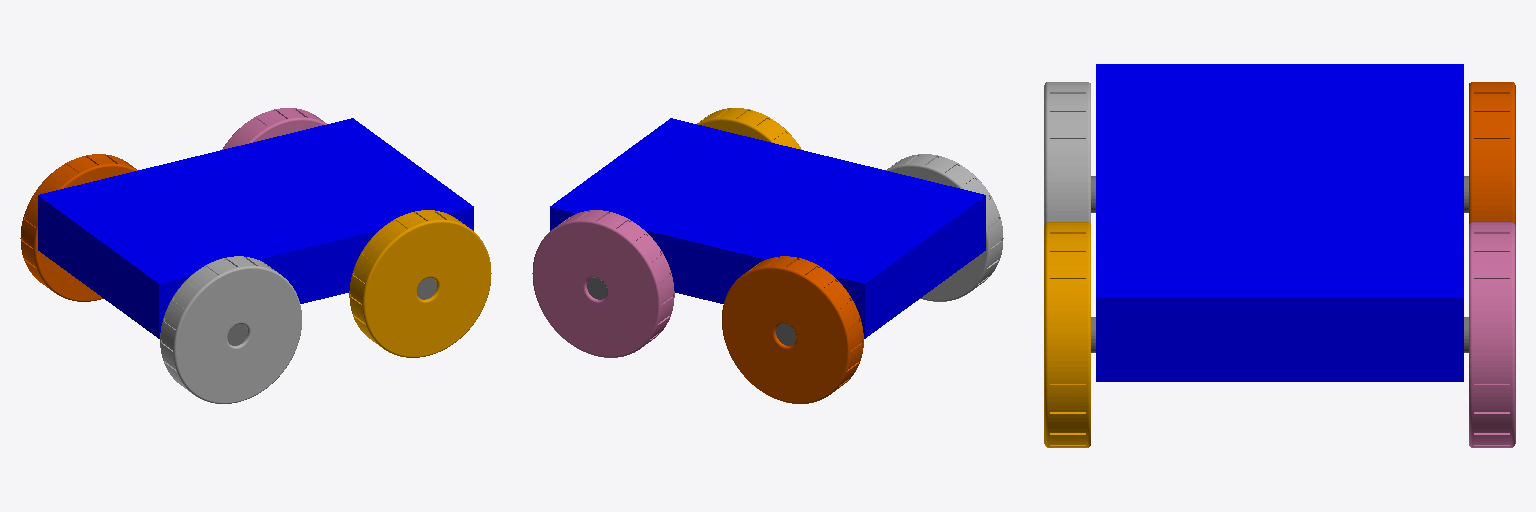
URDF robot description (farad_amr):
<?xml version="1.0"?>
<robot name="farad_amr">

<!-- Base link (chassis) -->
<link name="base_link">
<visual>
<geometry>
<box size="0.6 0.4 0.1"/>
</geometry>
<material name="blue">
<color rgba="0 0 1 1"/>
</material>
</visual>
<collision>
<geometry>
<box size="0.6 0.4 0.1"/>
</geometry>
</collision>
<inertial>
<mass value="10.0"/>
<inertia ixx="0.1" ixy="0.0" ixz="0.0" iyy="0.1" iyz="0.0" izz="0.1"/>
</inertial>
</link>




<!-- Left front shaft -->
<link name="left_front_shaft">
<visual>
<geometry>
<cylinder radius="0.02" length="0.10"/>
</geometry>
<origin xyz="0 0 0" rpy="1.5708 0 0"/>
<material name="gray">
<color rgba="0.5 0.5 0.5 1"/>
</material>
</visual>
<collision>
<geometry>
<cylinder radius="0.02" length="0.10"/>
</geometry>
<origin xyz="0 0 0" rpy="1.5708 0 0"/>
</collision>
<inertial>
<mass value="0.2"/>
<inertia ixx="0.01" ixy="0.0" ixz="0.0" iyy="0.01" iyz="0.0" izz="0.01"/>
</inertial>
</link>

<!-- Left rear shaft -->
<link name="left_rear_shaft">
<visual>
<geometry>
<cylinder radius="0.02" length="0.10"/>
</geometry>
<origin xyz="0 0 0" rpy="1.5708 0 0"/>
<material name="gray">
<color rgba="0.5 0.5 0.5 1"/>
</material>
</visual>
<collision>
<geometry>
<cylinder radius="0.02" length="0.10"/>
</geometry>
<origin xyz="0 0 0" rpy="1.5708 0 0"/>
</collision>
<inertial>
<mass value="0.2"/>
<inertia ixx="0.01" ixy="0.0" ixz="0.0" iyy="0.01" iyz="0.0" izz="0.01"/>
</inertial>
</link>

<!-- Right front shaft -->
<link name="right_front_shaft">
<visual>
<geometry>
<cylinder radius="0.02" length="0.10"/>
</geometry>
<origin xyz="0 0 0" rpy="1.5708 0 0"/>
<material name="gray">
<color rgba="0.5 0.5 0.5 1"/>
</material>
</visual>
<collision>
<geometry>
<cylinder radius="0.02" length="0.10"/>
</geometry>
<origin xyz="0 0 0" rpy="1.5708 0 0"/>
</collision>
<inertial>
<mass value="0.2"/>
<inertia ixx="0.01" ixy="0.0" ixz="0.0" iyy="0.01" iyz="0.0" izz="0.01"/>
</inertial>
</link>

<!-- Right rear shaft -->
<link name="right_rear_shaft">
<visual>
<geometry>
<cylinder radius="0.02" length="0.10"/>
</geometry>
<origin xyz="0 0 0" rpy="1.5708 0 0"/>
<material name="gray">
<color rgba="0.5 0.5 0.5 1"/>
</material>
</visual>
<collision>
<geometry>
<cylinder radius="0.02" length="0.10"/>
</geometry>
<origin xyz="0 0 0" rpy="1.5708 0 0"/>
</collision>
<inertial>
<mass value="0.2"/>
<inertia ixx="0.01" ixy="0.0" ixz="0.0" iyy="0.01" iyz="0.0" izz="0.01"/>
</inertial>
</link>



<!-- ================= TIRES (MESH) ================= -->

<!-- Left front tire (aligned with shaft, at +Y end) -->
<link name="left_front_tire">
	<inertial>
		<origin xyz="0 0 0"/>
		<mass value="1.0"/>
		<inertia ixx="0.02" iyy="0.02" izz="0.02" ixy="0" ixz="0" iyz="0"/>
	</inertial>
	<visual>
		<origin xyz="0 0.03 0" rpy="1.5708 0 0"/>
		<geometry>
			<mesh filename="tire_6.stl" scale="0.001 0.001 0.001"/>
		</geometry>
	</visual>
	<collision>
		<origin xyz="0 0.03 0" rpy="1.5708 0 0"/>
		<geometry>
			<mesh filename="tire_6.stl" scale="0.001 0.001 0.001"/>
		</geometry>
	</collision>
</link>

<!-- Left rear tire (aligned with shaft, at +Y end) -->
<link name="left_rear_tire">
	<inertial>
		<origin xyz="0 0 0"/>
		<mass value="1.0"/>
		<inertia ixx="0.02" iyy="0.02" izz="0.02" ixy="0" ixz="0" iyz="0"/>
	</inertial>
	<visual>
		<origin xyz="0 0.03 0" rpy="1.5708 0 0"/>
		<geometry>
			<mesh filename="tire_6.stl" scale="0.001 0.001 0.001"/>
		</geometry>
	</visual>
	<collision>
		<origin xyz="0 0.03 0" rpy="1.5708 0 0"/>
		<geometry>
			<mesh filename="tire_6.stl" scale="0.001 0.001 0.001"/>
		</geometry>
	</collision>
</link>

<!-- Right front tire (aligned with shaft, at +Y end) -->
<link name="right_front_tire">
	<inertial>
		<origin xyz="0 0 0"/>
		<mass value="1.0"/>
		<inertia ixx="0.02" iyy="0.02" izz="0.02" ixy="0" ixz="0" iyz="0"/>
	</inertial>
	<visual>
		<origin xyz="0 -0.03 0" rpy="1.5708 0 0"/>
		<geometry>
			<mesh filename="tire_6.stl" scale="0.001 0.001 0.001"/>
		</geometry>
	</visual>
	<collision>
		<origin xyz="0 -0.03 0" rpy="1.5708 0 0"/>
		<geometry>
			<mesh filename="tire_6.stl" scale="0.001 0.001 0.001"/>
		</geometry>
	</collision>
</link>

<!-- Right rear tire (aligned with shaft, at +Y end) -->
<link name="right_rear_tire">
	<inertial>
		<origin xyz="0 0 0"/>
		<mass value="1.0"/>
		<inertia ixx="0.02" iyy="0.02" izz="0.02" ixy="0" ixz="0" iyz="0"/>
	</inertial>
	<visual>
		<origin xyz="0 -0.03 0" rpy="1.5708 0 0"/>
		<geometry>
			<mesh filename="tire_6.stl" scale="0.001 0.001 0.001"/>
		</geometry>
	</visual>
	<collision>
		<origin xyz="0 -0.03 0" rpy="1.5708 0 0"/>
		<geometry>
			<mesh filename="tire_6.stl" scale="0.001 0.001 0.001"/>
		</geometry>
	</collision>
</link>



<!-- ================= SHAFTS AND TIRES ASSEMBLY ================= -->

<!-- Left front shaft (front left corner) -->
<joint name="base_link_to_left_front_shaft" type="fixed">
	<parent link="base_link"/>
	<child link="left_front_shaft"/>
	<origin xyz="-0.18 0.2 -0.05" rpy="0 0 0"/>
</joint>

<!-- Attach left front tire to shaft with continuous joint (rotates freely) -->
<joint name="left_front_shaft_to_tire" type="continuous">
	<parent link="left_front_shaft"/>
	<child link="left_front_tire"/>
	<!-- Tire is placed at end of shaft, so no offset needed -->
	<origin xyz="0 0 0" rpy="0 0 0"/>
	<axis xyz="0 1 0"/>
</joint>

<!-- Left rear shaft (rear left corner) -->
<joint name="base_link_to_left_rear_shaft" type="fixed">
	<parent link="base_link"/>
	<child link="left_rear_shaft"/>
	<origin xyz="0.18 0.2 -0.05" rpy="0 0 0"/>
</joint>

<!-- Attach left rear tire to shaft with continuous joint -->
<joint name="left_rear_shaft_to_tire" type="continuous">
	<parent link="left_rear_shaft"/>
	<child link="left_rear_tire"/>
	<origin xyz="0 0 0" rpy="0 0 0"/>
	<axis xyz="0 1 0"/>
</joint>

<!-- Right front shaft (front right corner) -->
<joint name="base_link_to_right_front_shaft" type="fixed">
	<parent link="base_link"/>
	<child link="right_front_shaft"/>
	<origin xyz="-0.18 -0.2 -0.05" rpy="0 0 0"/>
</joint>

<!-- Attach right front tire to shaft with continuous joint -->
<joint name="right_front_shaft_to_tire" type="continuous">
	<parent link="right_front_shaft"/>
	<child link="right_front_tire"/>
	<origin xyz="0 0 0" rpy="0 0 0"/>
	<axis xyz="0 1 0"/>
</joint>

<!-- Right rear shaft (rear right corner) -->
<joint name="base_link_to_right_rear_shaft" type="fixed">
	<parent link="base_link"/>
	<child link="right_rear_shaft"/>
	<origin xyz="0.18 -0.2 -0.05" rpy="0 0 0"/>
</joint>

<!-- Attach right rear tire to shaft with continuous joint -->
<joint name="right_rear_shaft_to_tire" type="continuous">
	<parent link="right_rear_shaft"/>
	<child link="right_rear_tire"/>
	<origin xyz="0 0 0" rpy="0 0 0"/>
	<axis xyz="0 1 0"/>
</joint>

</robot>

--- Render facts (derived) ---
The picture shows the robot from 3 angles, left to right: view 1: azimuth 30°, elevation 25°; view 2: azimuth 150°, elevation 25°; view 3: azimuth 270°, elevation 25°; orthographic projection.
Robot: farad_amr — 9 links, 8 joints (4 continuous, 4 fixed); root link base_link; default pose: every joint at zero.
Links seen in each view (by area): view 1: base_link, right_front_tire, right_rear_tire, left_front_tire, left_rear_tire; view 2: base_link, left_front_tire, left_rear_tire, right_front_tire, right_rear_tire; view 3: base_link, left_rear_tire, right_rear_tire, left_front_tire, right_front_tire.
Link boxes in pixels (left/top/right/bottom): base_link: left=38, top=118, right=473, bottom=338; right_front_tire: left=160, top=256, right=301, bottom=403; right_rear_tire: left=349, top=210, right=491, bottom=357; left_front_tire: left=20, top=154, right=137, bottom=301; left_rear_tire: left=222, top=108, right=326, bottom=149; base_link: left=550, top=118, right=985, bottom=338; left_front_tire: left=722, top=256, right=863, bottom=403; left_rear_tire: left=532, top=210, right=674, bottom=357; right_front_tire: left=886, top=154, right=1003, bottom=301; right_rear_tire: left=697, top=108, right=801, bottom=149; base_link: left=1096, top=64, right=1463, bottom=381; left_rear_tire: left=1469, top=222, right=1515, bottom=447; right_rear_tire: left=1044, top=222, right=1090, bottom=447; left_front_tire: left=1469, top=82, right=1515, bottom=225; right_front_tire: left=1044, top=82, right=1090, bottom=225.
Bounding box of the posed robot: 0.6043 × 0.5109 × 0.2443 m (x, y, z).
Meshes: 1 distinct files referenced, 4 mesh visuals loaded (1 binary STL).
